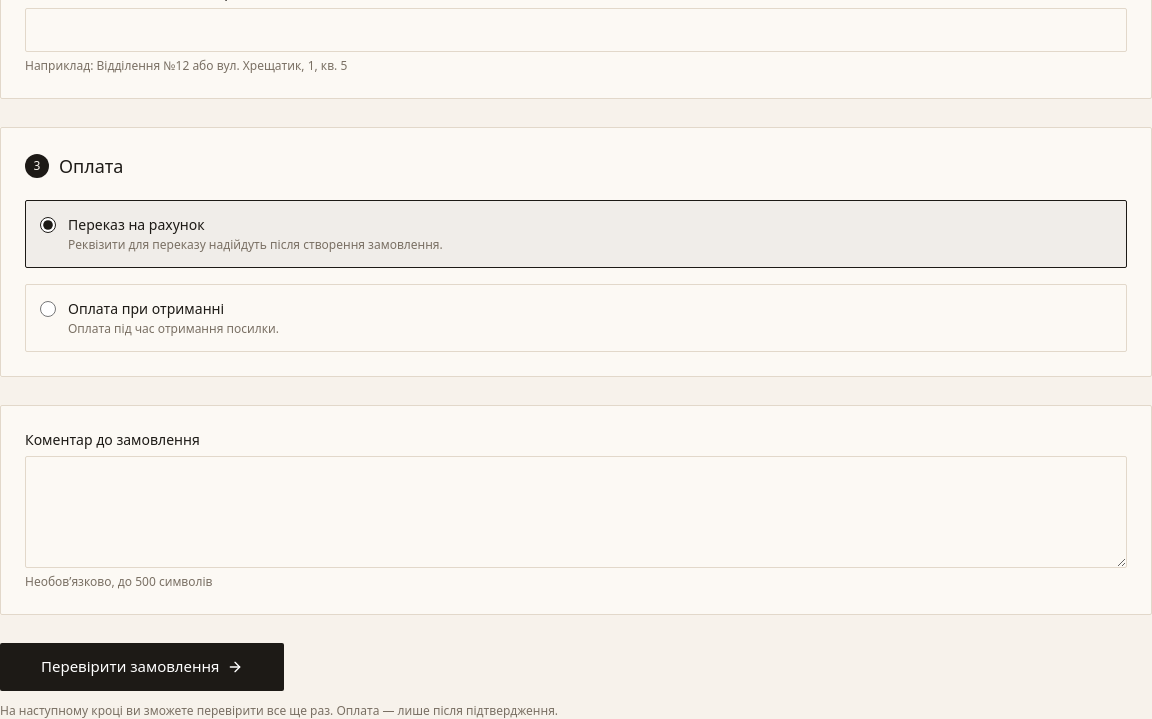
CheckoutForm › shows Ukrainian errors and does not continue when empty
The image size is (1152, 719).
(page scrolled)
Step 1. Click the button "Перевірити замовлення" → (142, 667), box [0, 643, 284, 691]
(page scrolled)
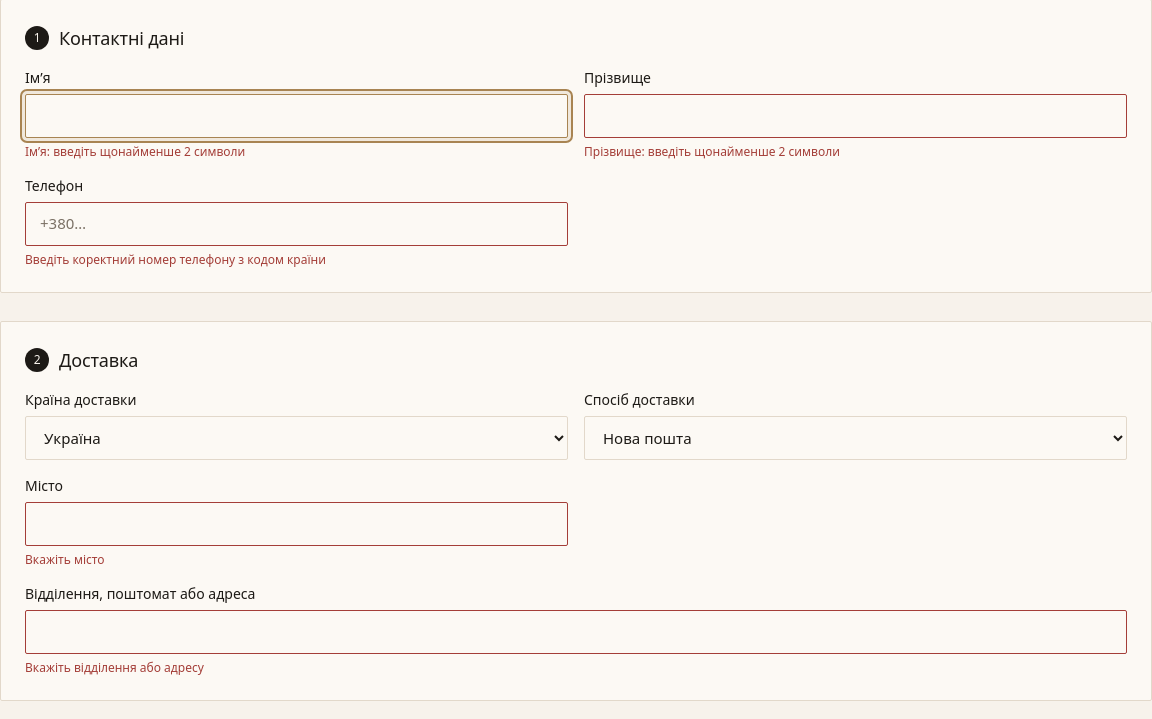
Expected: the text "Ім’я: введіть щонайменше 2 символи" is shown, [25, 143, 245, 160]
Expected: the text "Введіть коректний номер телефону з кодом країни" is shown, [25, 251, 326, 268]
Expected: the text "Вкажіть відділення або адресу" is shown, [25, 659, 204, 676]
